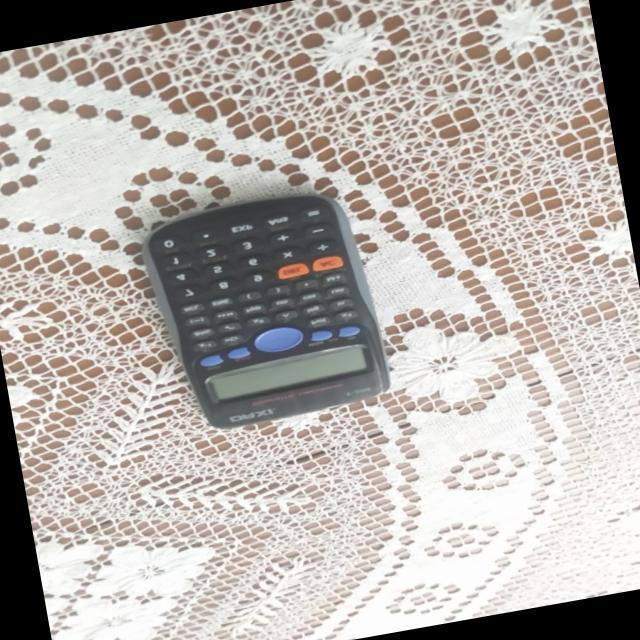Calculator: (145, 187, 386, 439)
